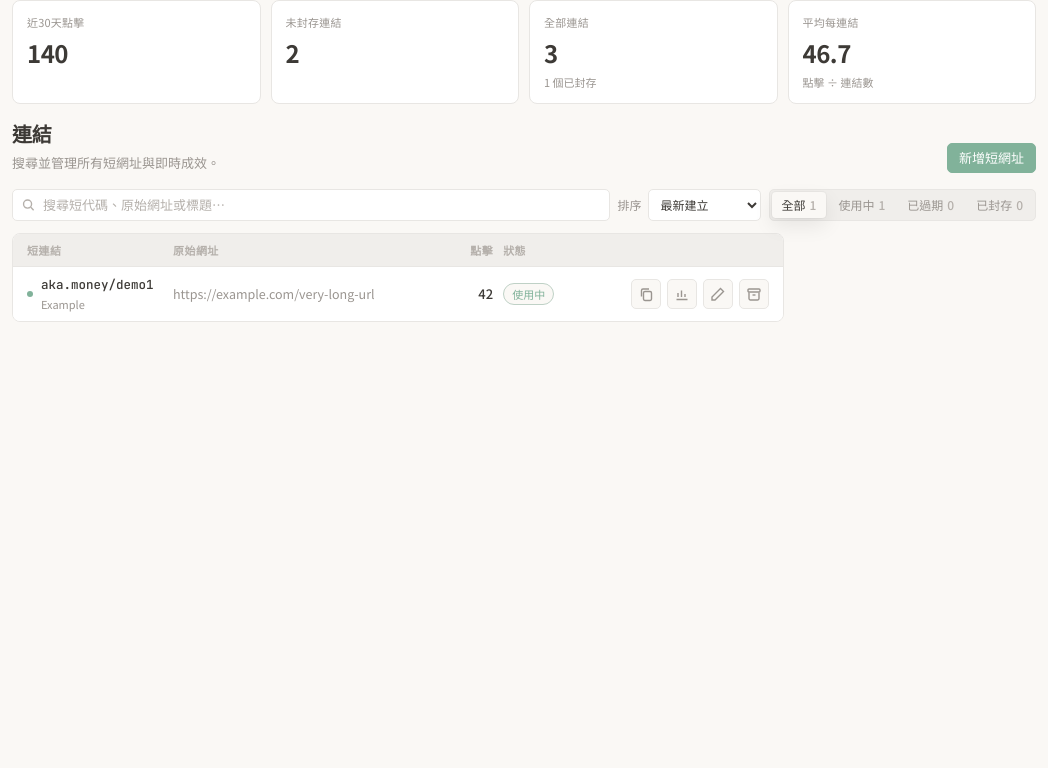
it: DashboardView › shows a visible error toast when the clipboard write fails
This screenshot has width=1048, height=768.
Click the button with test id "row-copy" at {"x": 646, "y": 294}, box [631,279,661,309]
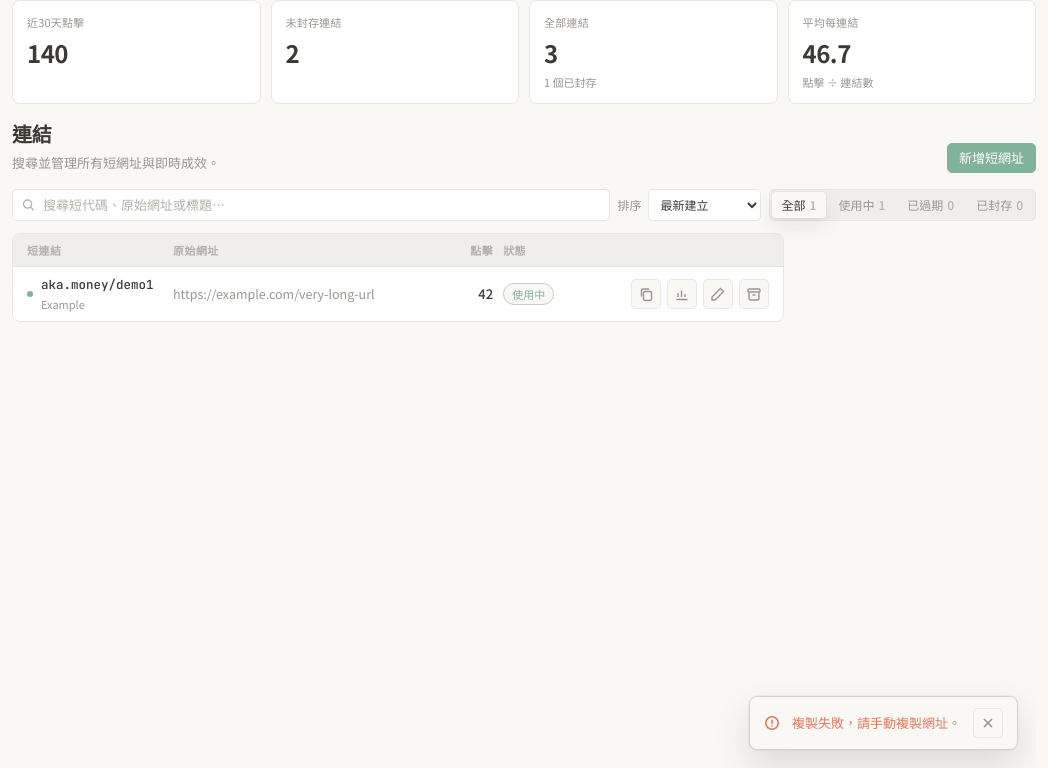
Now the message "複製失敗，請手動複製網址。" is shown, box [749,696,1018,750]
